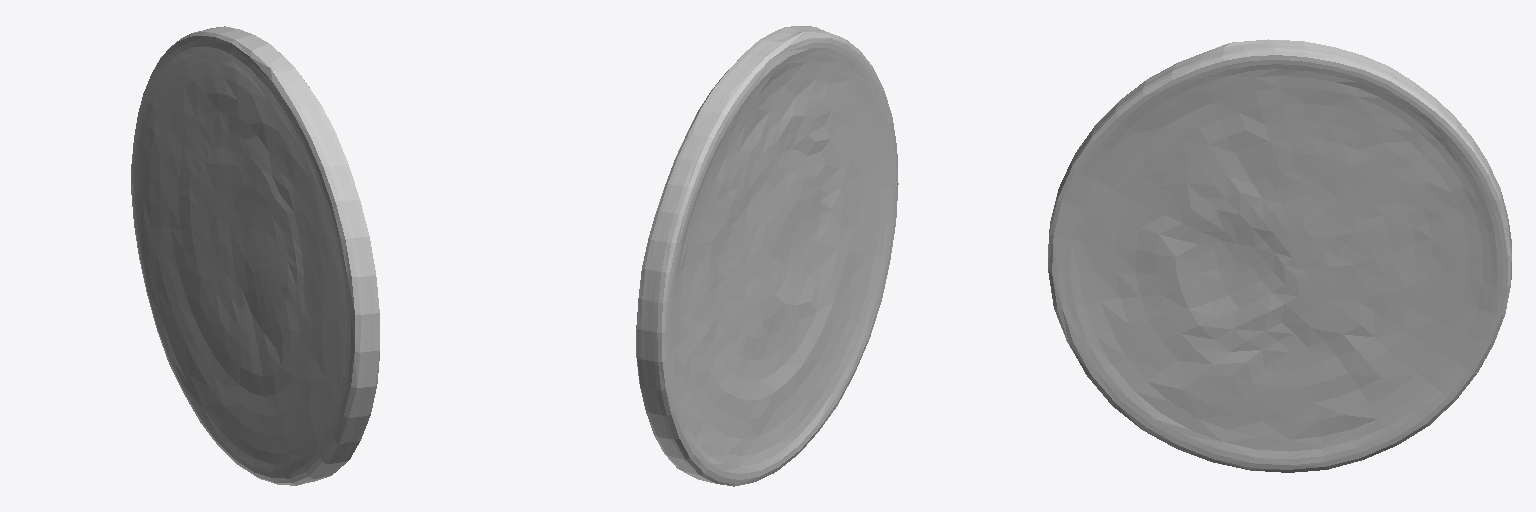
File: silver.obj
3 views of the same model, side by side, from view 1: azimuth 30°, elevation 25°; view 2: azimuth 150°, elevation 25°; view 3: azimuth 270°, elevation 25° (orthographic).
Parts seen in each view (by area): view 1: mesh; view 2: mesh; view 3: mesh.
Boxes of the visible parts, box(x1,y1,x2,y2) form: mesh: box(131, 26, 379, 485); mesh: box(636, 26, 898, 486); mesh: box(1048, 39, 1511, 472).
Size of the model in its own units: 0.091 by 0.9985 by 0.9926.